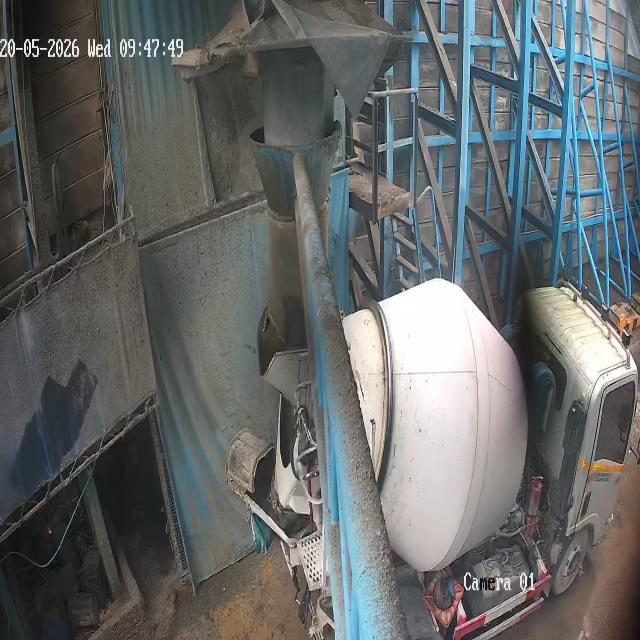cement_mixer_truck: (259, 279, 637, 639)
swing_chute: (250, 131, 348, 350)
